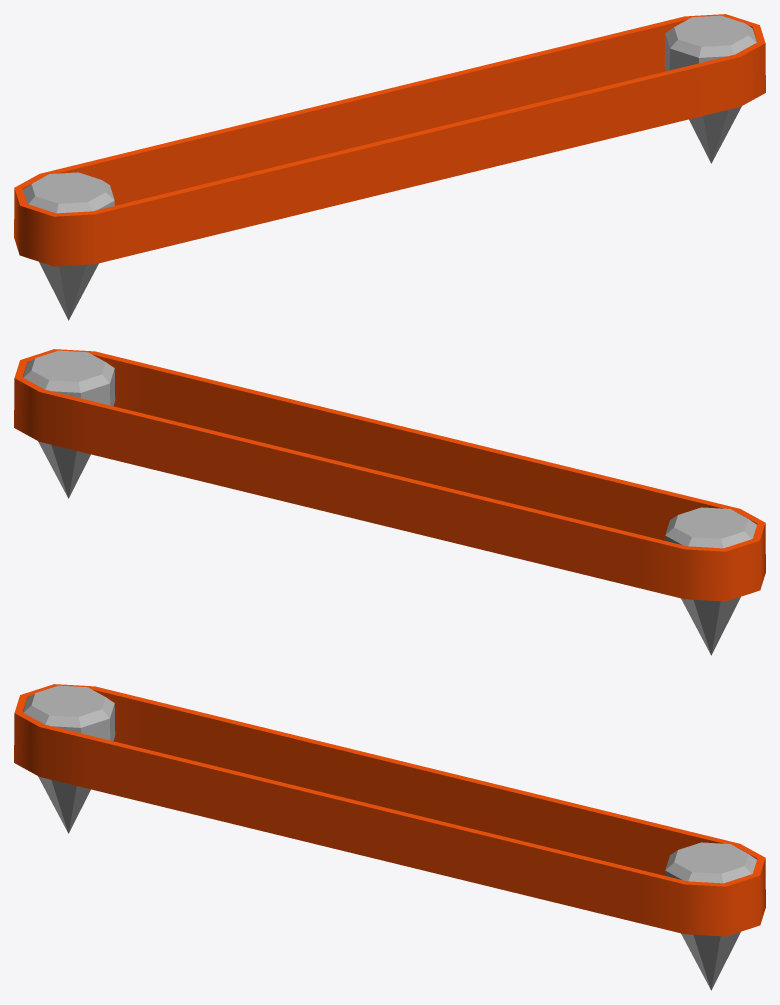
File: Elastic Band Small Orange.fbx
The picture shows the model from 3 angles, top to bottom: view 1: azimuth 30°, elevation 25°; view 2: azimuth 150°, elevation 25°; view 3: azimuth 330°, elevation 25°; orthographic projection.
Parts seen in each view (by area): view 1: Band.012, Pegs.012; view 2: Band.012, Pegs.012; view 3: Band.012, Pegs.012.
Part boxes in pixels (<box>): Band.012: <box>14,14,765,266</box>; Pegs.012: <box>23,15,756,320</box>; Band.012: <box>14,349,765,601</box>; Pegs.012: <box>23,350,756,655</box>; Band.012: <box>14,684,765,936</box>; Pegs.012: <box>23,685,756,990</box>.
Size of the model in its own units: 0.5559 by 0.0952 by 0.0727.
